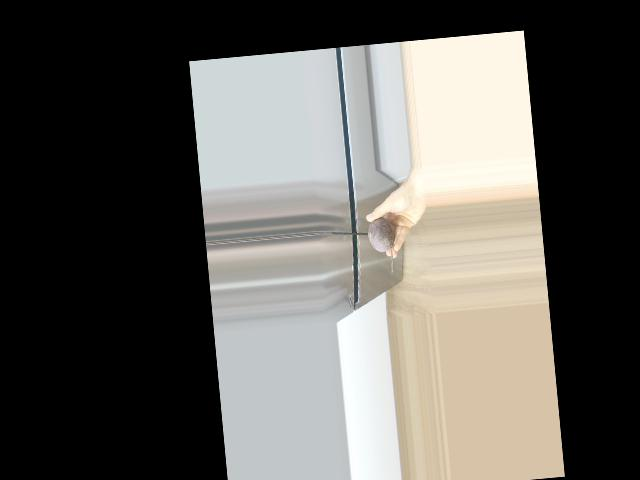beet: (366, 216, 398, 275)
